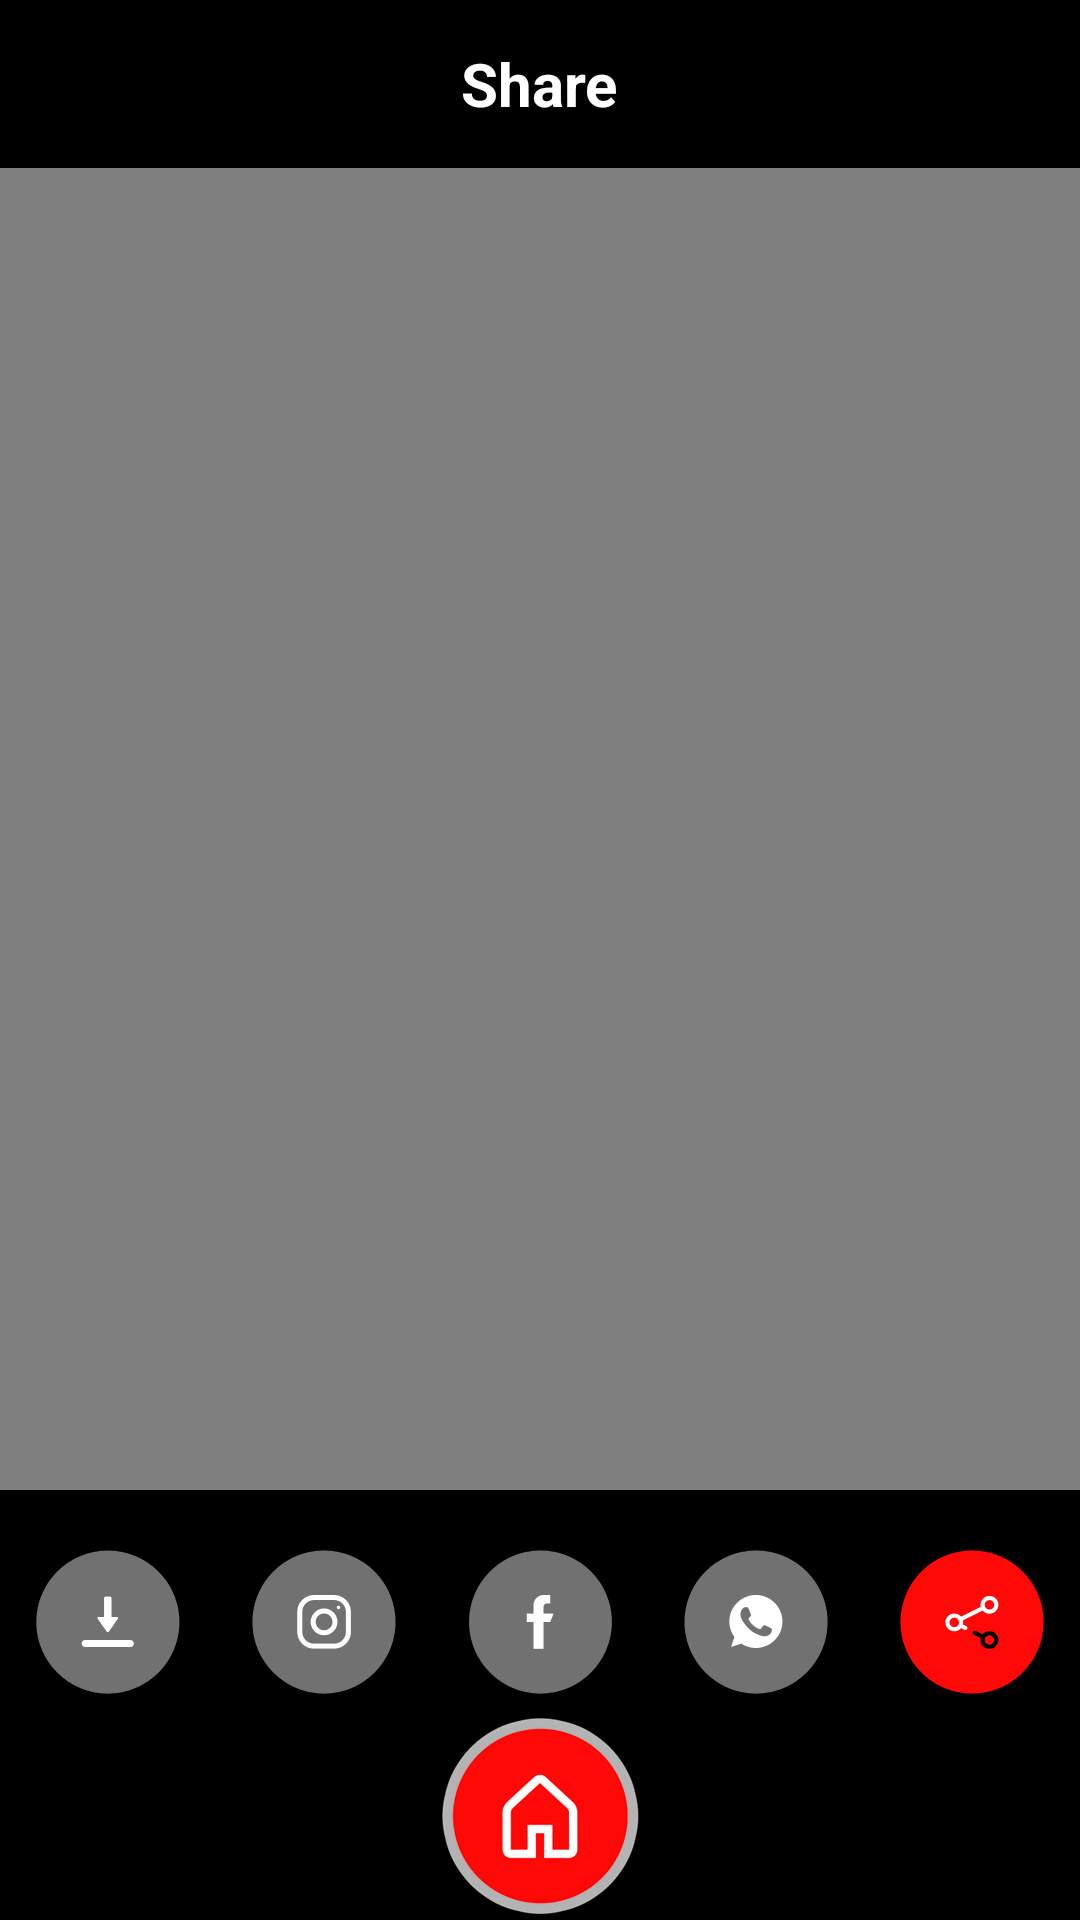

Where icons sit on this 1080px x 1920px app screen, as box(x1, y1, x2, y2):
download: box(36, 1550, 180, 1694)
home: box(442, 1718, 639, 1914)
share: box(900, 1550, 1044, 1694)
